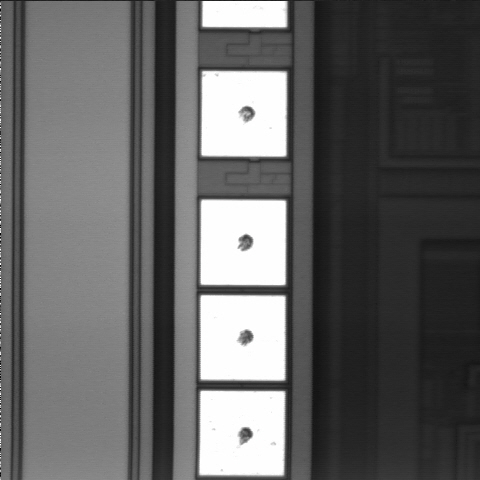pad: (201, 71, 287, 156), (201, 200, 286, 285), (199, 391, 285, 475), (201, 295, 285, 380)
